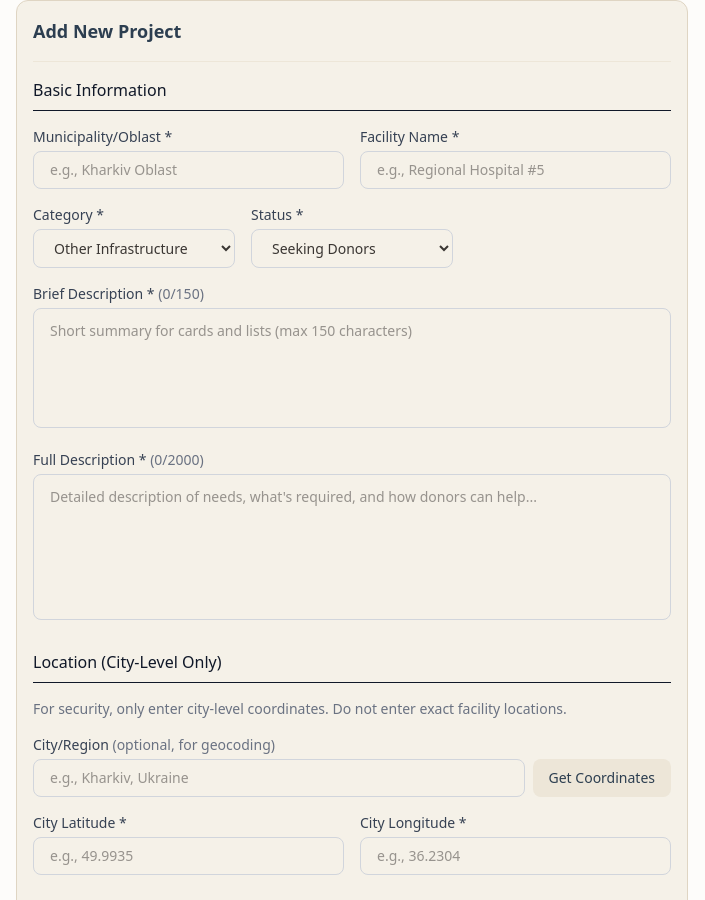
Scenario: ProjectForm › Geocoding › populates coordinates on successful geocoding
Type "Kyiv, Ukraine" into the field with placeholder "e.g., Kharkiv, Ukraine" at (279, 778), box [33,759,524,797]
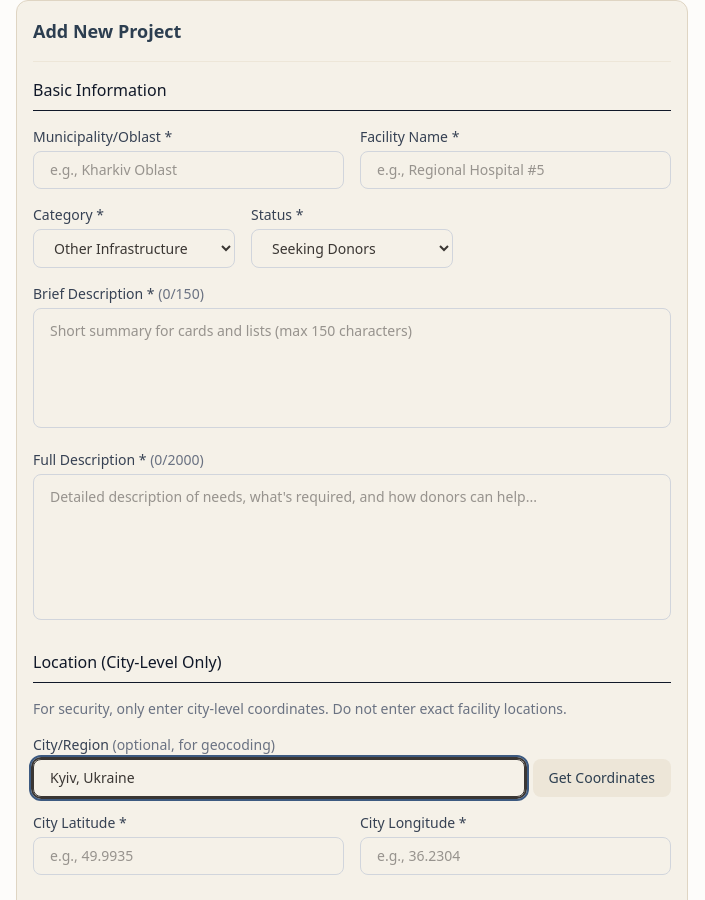
Click the button "Get Coordinates" at (602, 778), box [532,759,671,797]
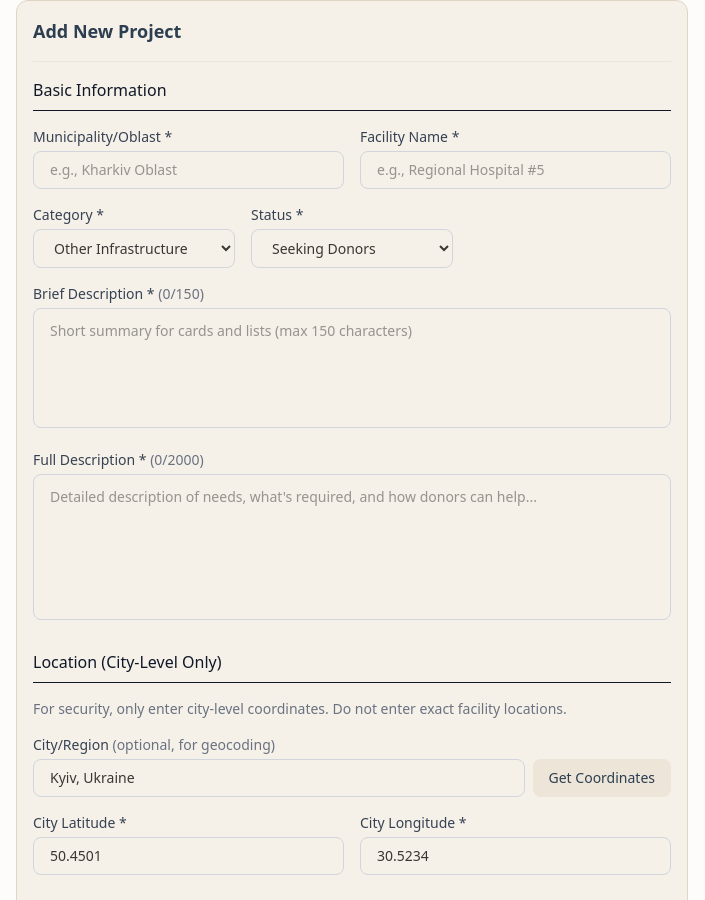
Expected: the field showing "50.4501" below "City Latitude *" is shown, [33,837,344,875]
Expected: the field showing "30.5234" below "City Longitude *" is shown, [360,837,671,875]
